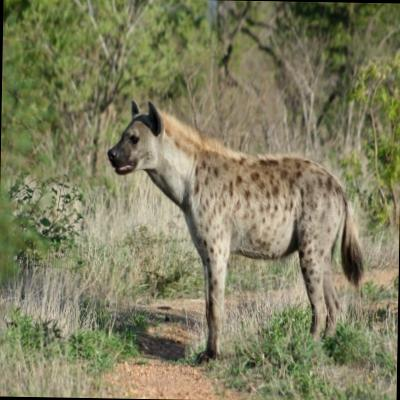hyenas: (81, 92, 400, 390)
